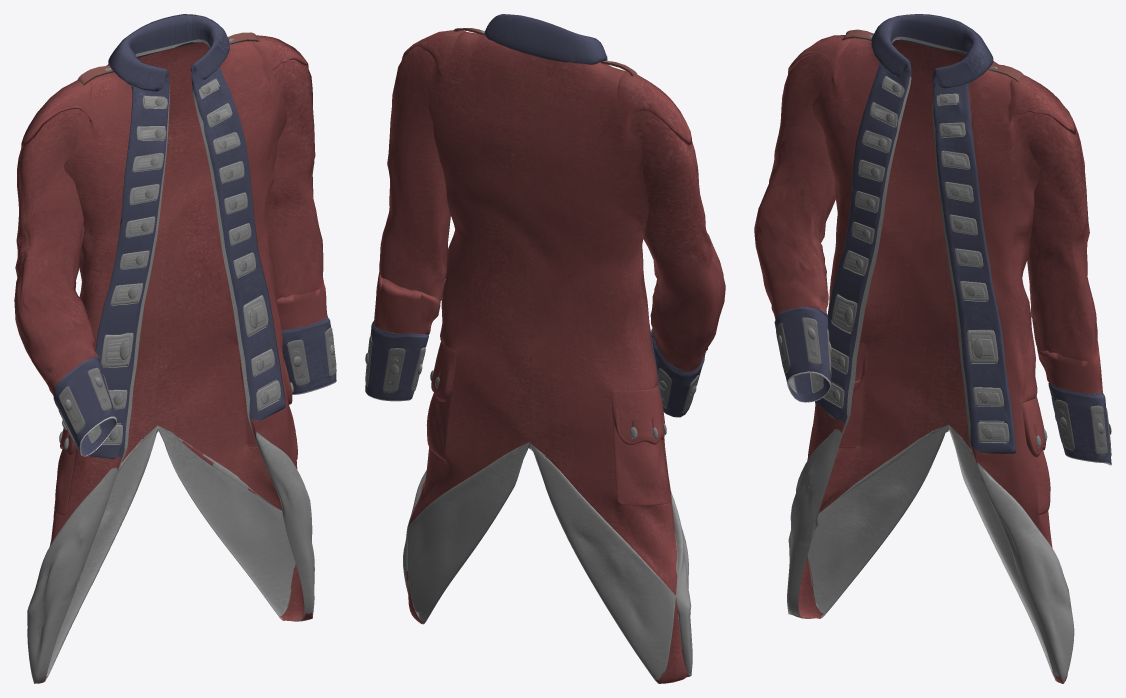
File: redcoat.FBX
3 views of the same model, side by side, from view 1: azimuth 30°, elevation 25°; view 2: azimuth 150°, elevation 25°; view 3: azimuth 330°, elevation 25° (orthographic).
Parts seen in each view (by area): view 1: ARSM4topSuit_51351.Shape; view 2: ARSM4topSuit_51351.Shape; view 3: ARSM4topSuit_51351.Shape.
Part boxes in pixels (left/top/right/bottom): ARSM4topSuit_51351.Shape: left=14, top=14, right=336, bottom=683; ARSM4topSuit_51351.Shape: left=365, top=14, right=725, bottom=683; ARSM4topSuit_51351.Shape: left=754, top=14, right=1111, bottom=683.
Size of the model in its own units: 59.38 by 106 by 14.01.
